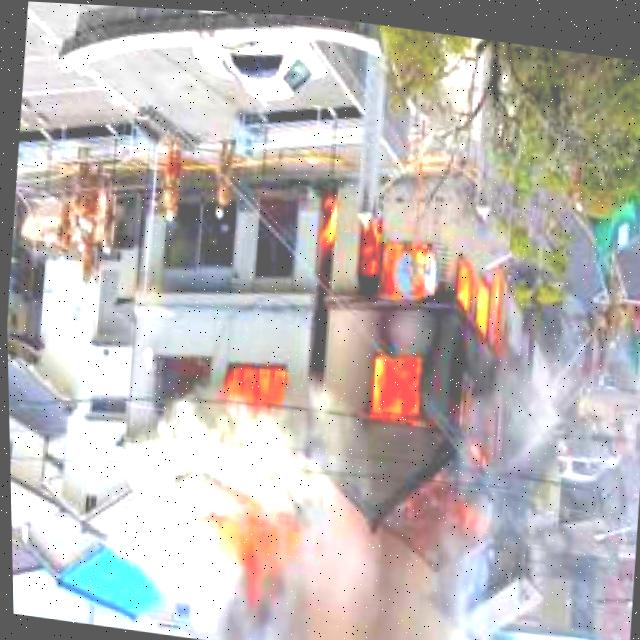Fire: (335, 222, 517, 482), (189, 507, 310, 596), (215, 349, 286, 405)
Smoke: (84, 407, 468, 640)
